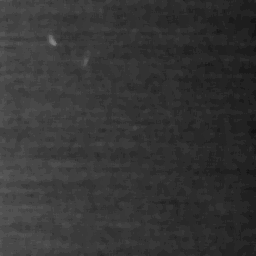con: (44, 30, 98, 75)
